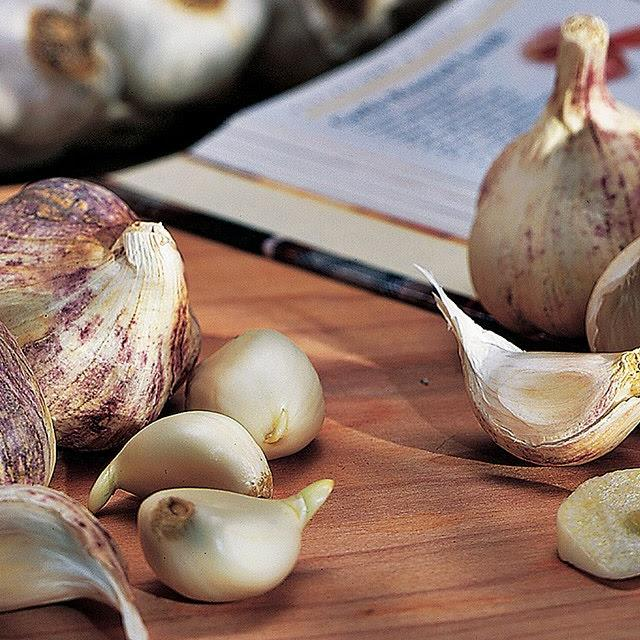garlic: (451, 342, 640, 460), (140, 486, 306, 605), (0, 493, 134, 625), (109, 410, 274, 494)
